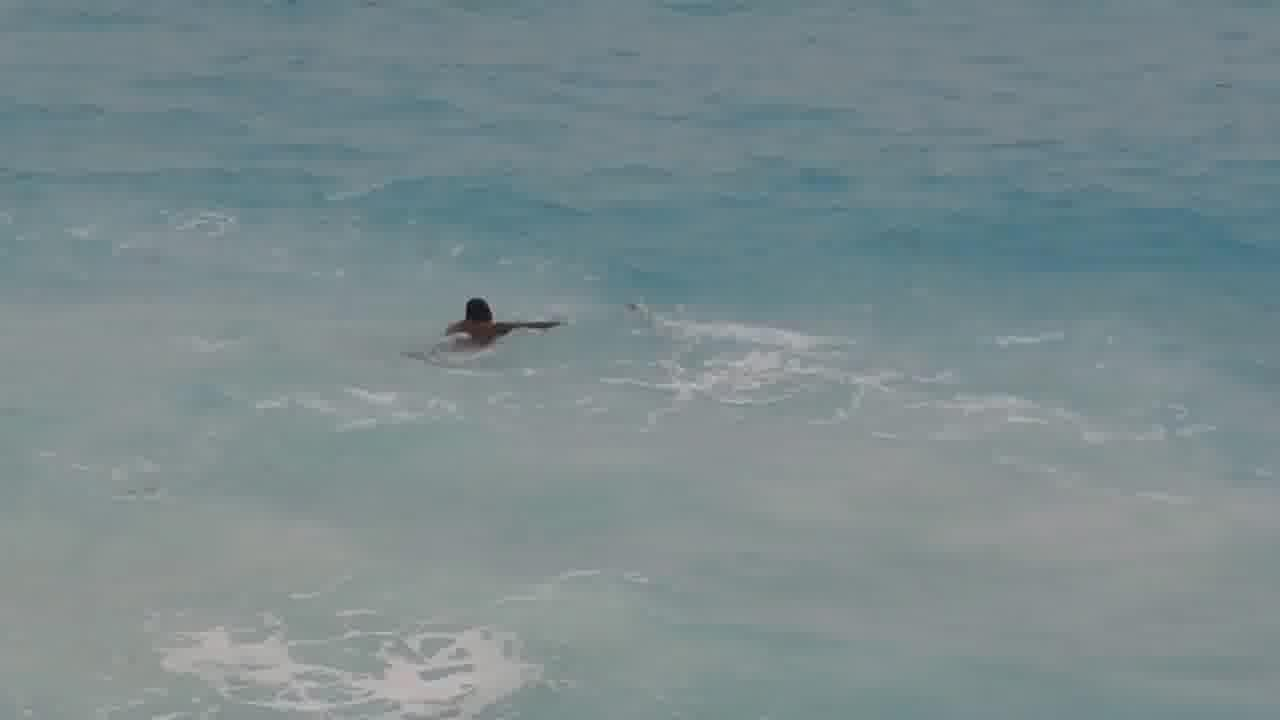swimmer: (454, 290, 512, 352)
